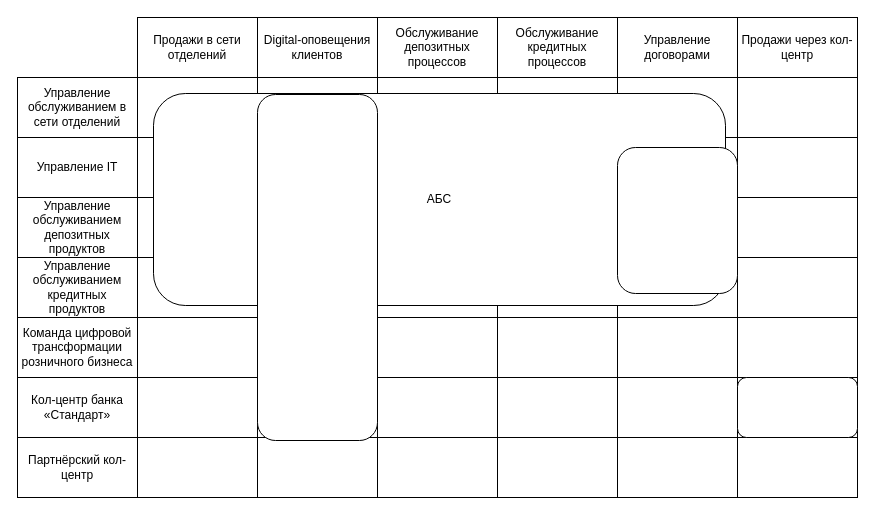
This 875x515 diagram has some shape labels left out. Each missing label, with the box of its shape:
Интернет-банк Сайт: (616, 146, 738, 294)
ПО коолцентра: (736, 376, 858, 438)
СМС-шлюз: (256, 94, 378, 440)
